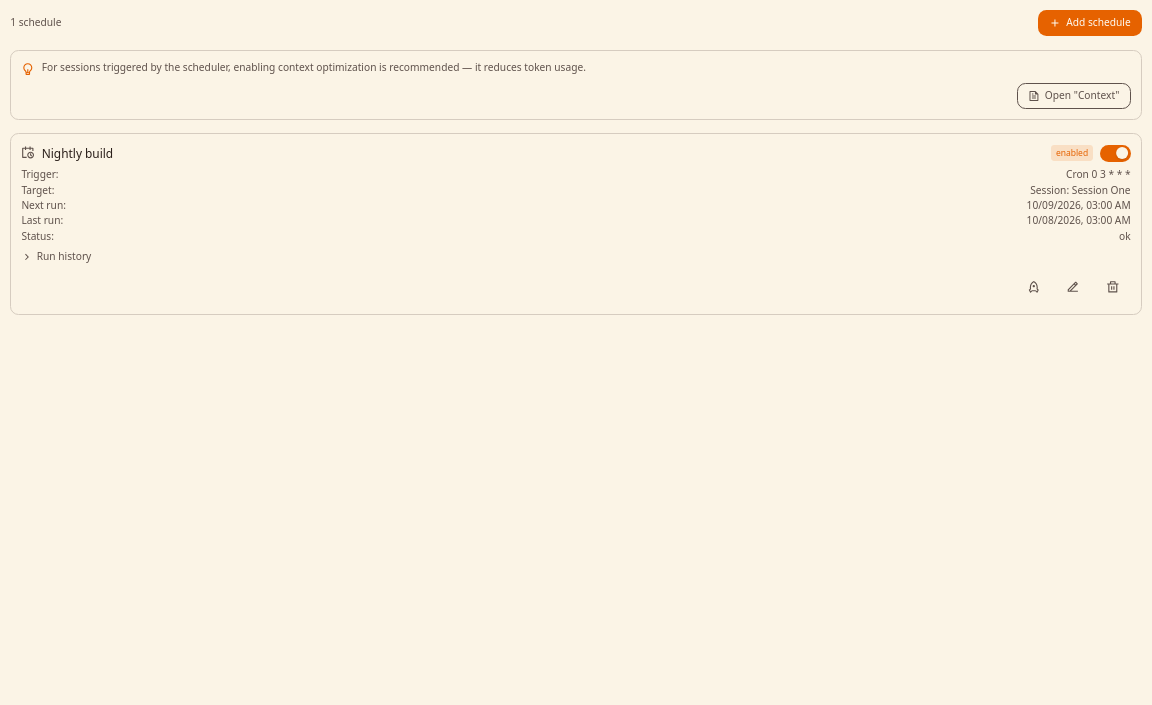
SchedulerTab — создание и редактирование › создание без имени не вызывает API и показывает ошибку
expect the element that starts with "Nightly build" is shown: met, box x1=10 y1=133 x2=1142 y2=316
Click the button with test id "scheduler-add": (1090, 23) x1=1038 y1=10 x2=1142 y2=36
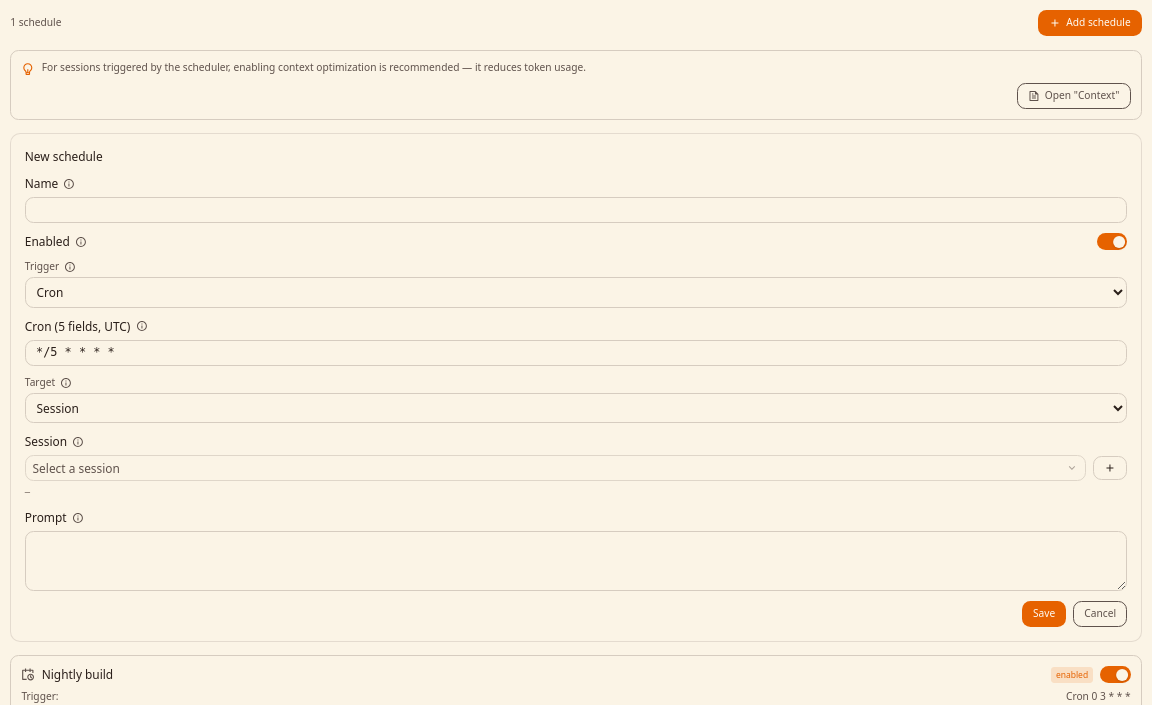
expect the button with test id "scheduler-save" is shown: met
Click the button with test id "scheduler-save": (1044, 614) x1=1022 y1=601 x2=1066 y2=627
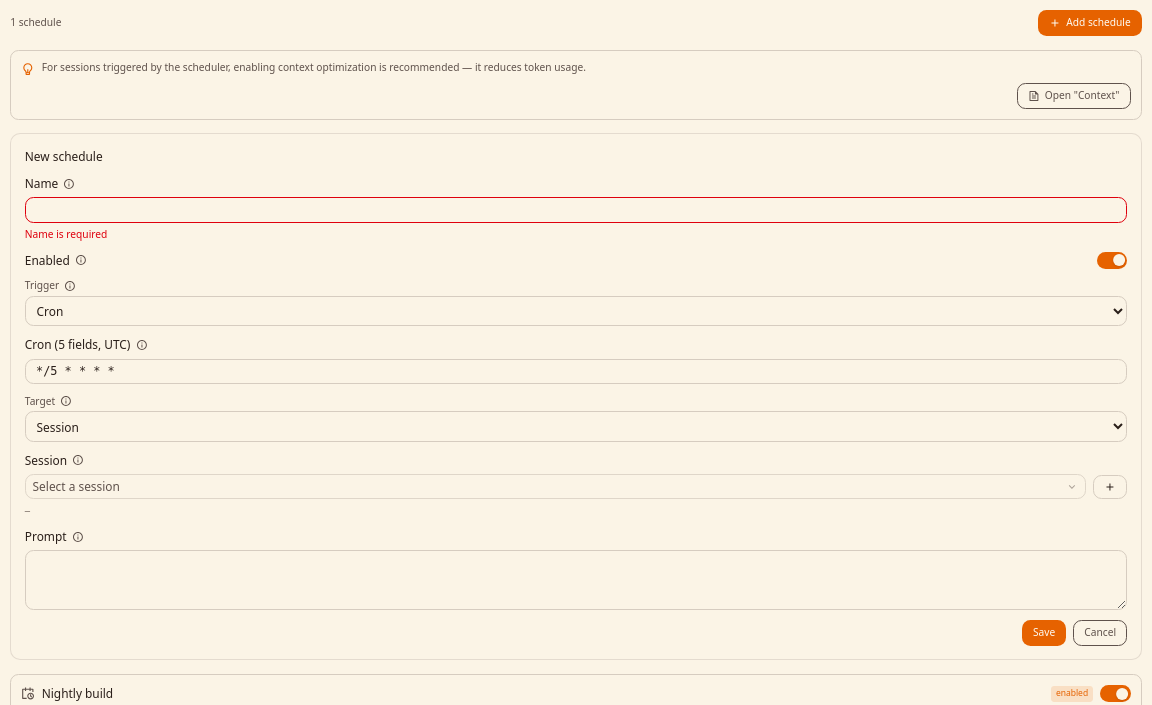
expect the text "Name is required" is shown: met, box x1=25 y1=227 x2=107 y2=241
